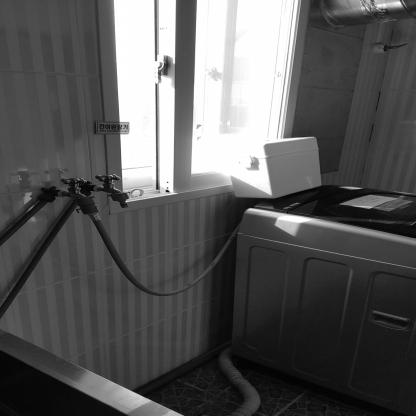DDL: (231, 137, 322, 198)
